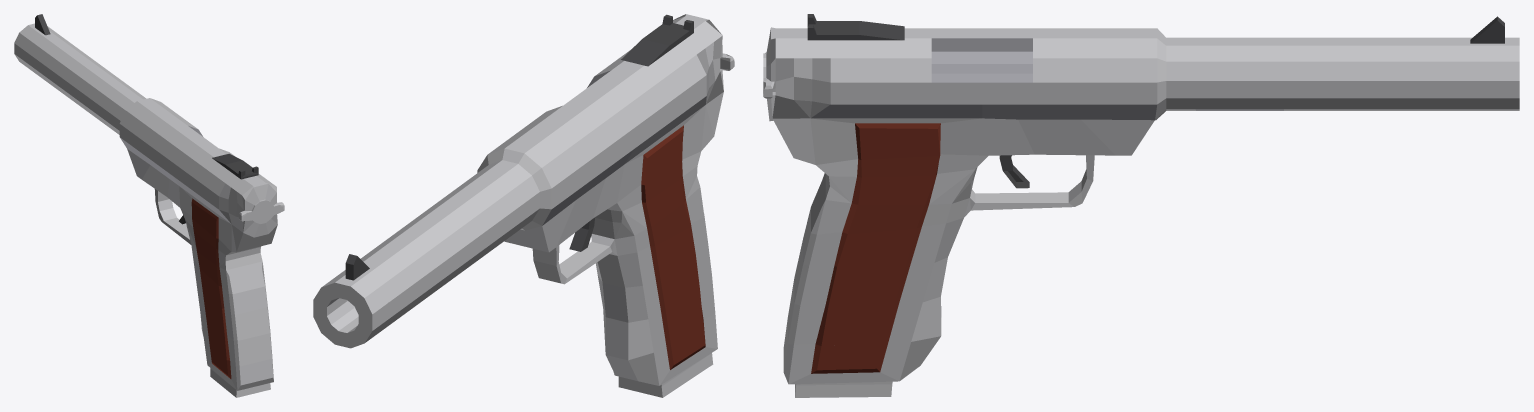
The model's file is mk57_pistol.gltf.
The picture shows the model from 3 angles, left to right: view 1: azimuth 30°, elevation 25°; view 2: azimuth 150°, elevation 25°; view 3: azimuth 270°, elevation 25°; orthographic projection. The views are drawn at different scales.
Visible parts, largest first — view 1: Body, Slider, Mags; view 2: Body, Mags, trigger; view 3: Body, Slider, Mags.
Boxes of the visible parts, x1,y1,x2,y2 form: Body: [14, 14, 277, 390]; Slider: [239, 199, 284, 223]; Mags: [210, 368, 270, 397]; Body: [313, 14, 723, 385]; Mags: [618, 353, 713, 397]; trigger: [569, 217, 595, 251]; Body: [766, 14, 1519, 384]; Slider: [763, 51, 1032, 98]; Mags: [795, 381, 892, 397].
Bounding box in the file's own units: 0.0938 × 0.4193 × 0.7828.
Materials: 1 (1 with a texture image).
